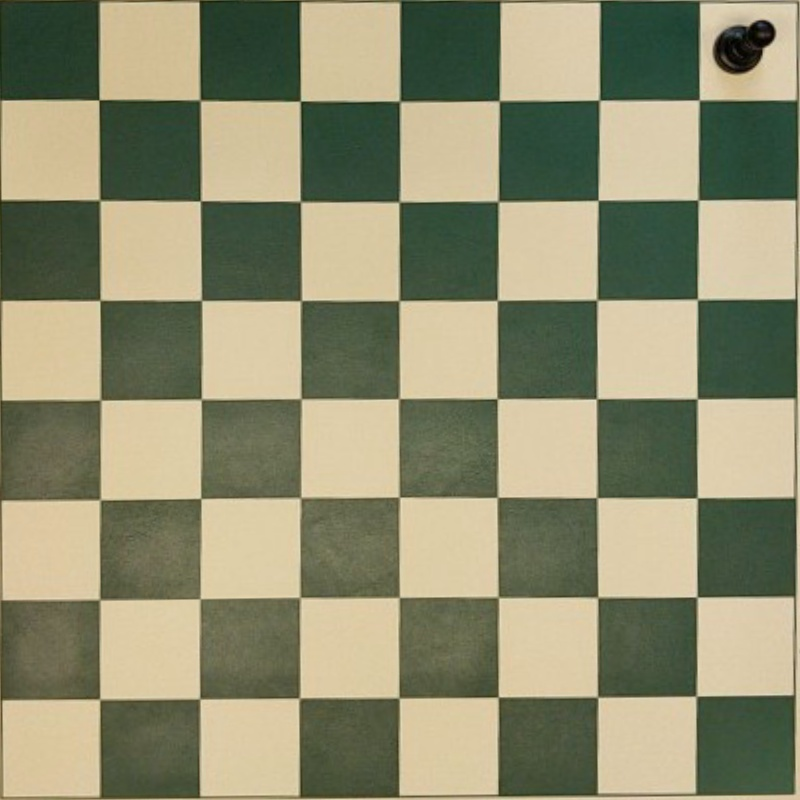black-pawn: (715, 19, 776, 73)
